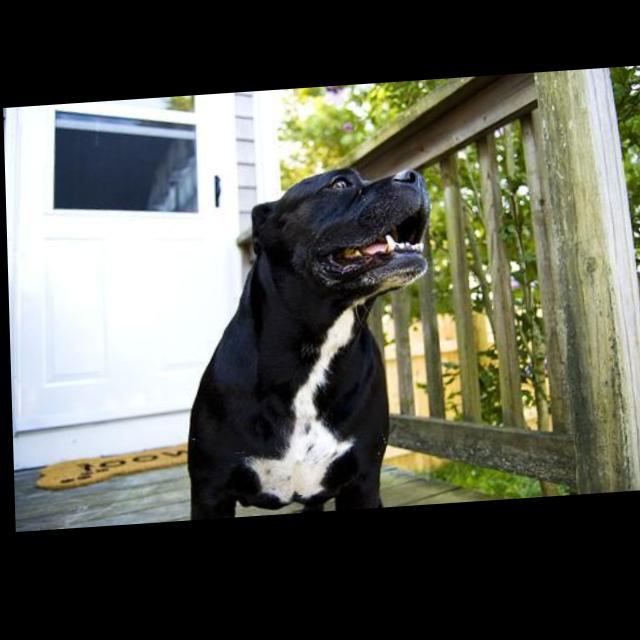staffford: (179, 168, 438, 525)
